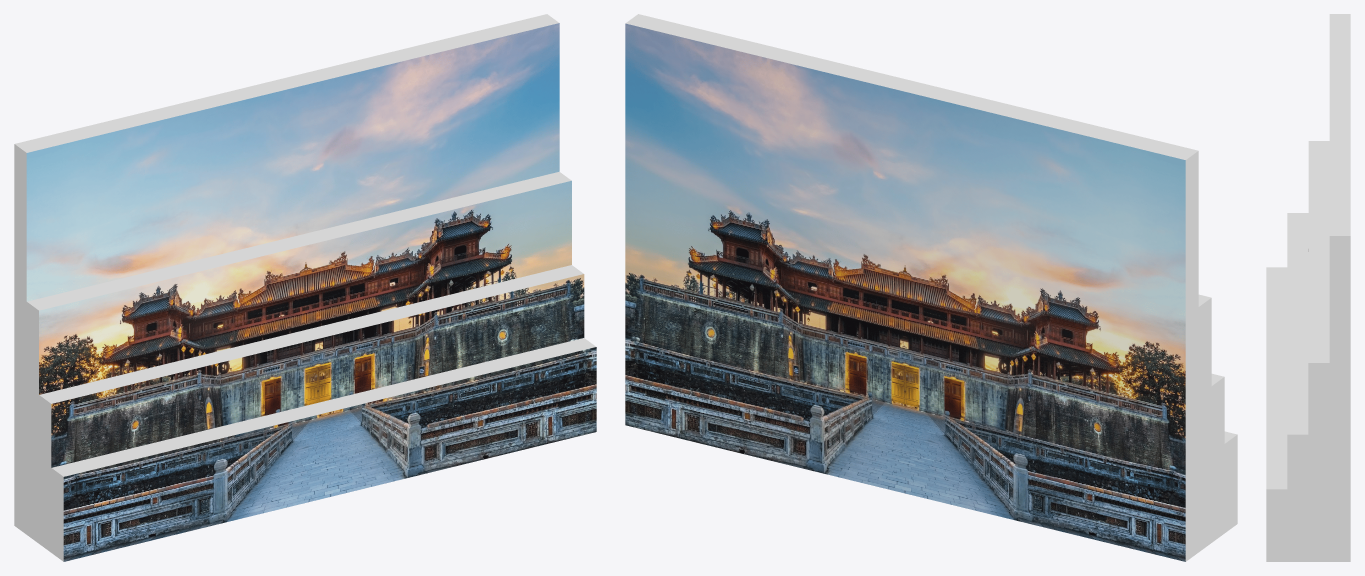
File: codoHue.glb
3 renders of one model, left to right at view 1: azimuth 30°, elevation 25°; view 2: azimuth 150°, elevation 25°; view 3: azimuth 270°, elevation 25°, orthographic. The views are drawn at different scales.
Parts seen in each view (by area): view 1: codoHue; view 2: codoHue; view 3: codoHue.
Boxes of the visible parts, box(x1,y1,x2,y2) form: codoHue: box(14, 14, 596, 561); codoHue: box(625, 14, 1237, 561); codoHue: box(1266, 14, 1350, 561).
Bounding box in the file's own units: 4.14 × 2.84 × 0.6645.
1 material, 1 textured.
